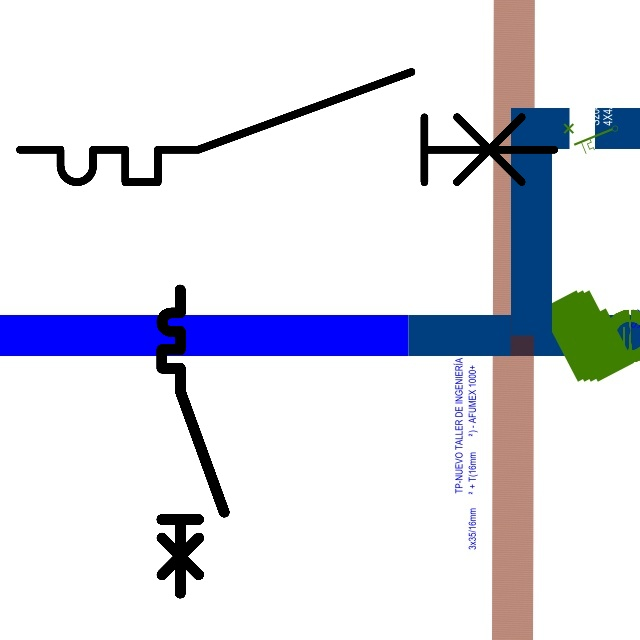interruptor_termomagnetico: (6, 58, 568, 196), (154, 282, 232, 601)
